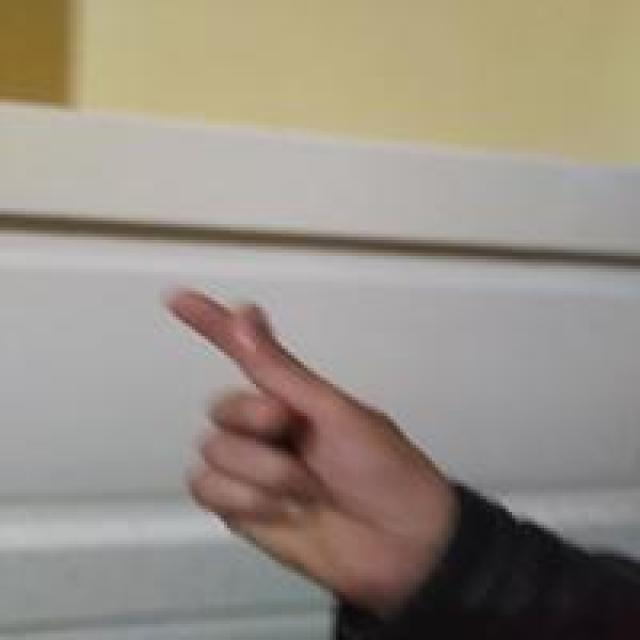K: (141, 262, 451, 614)
